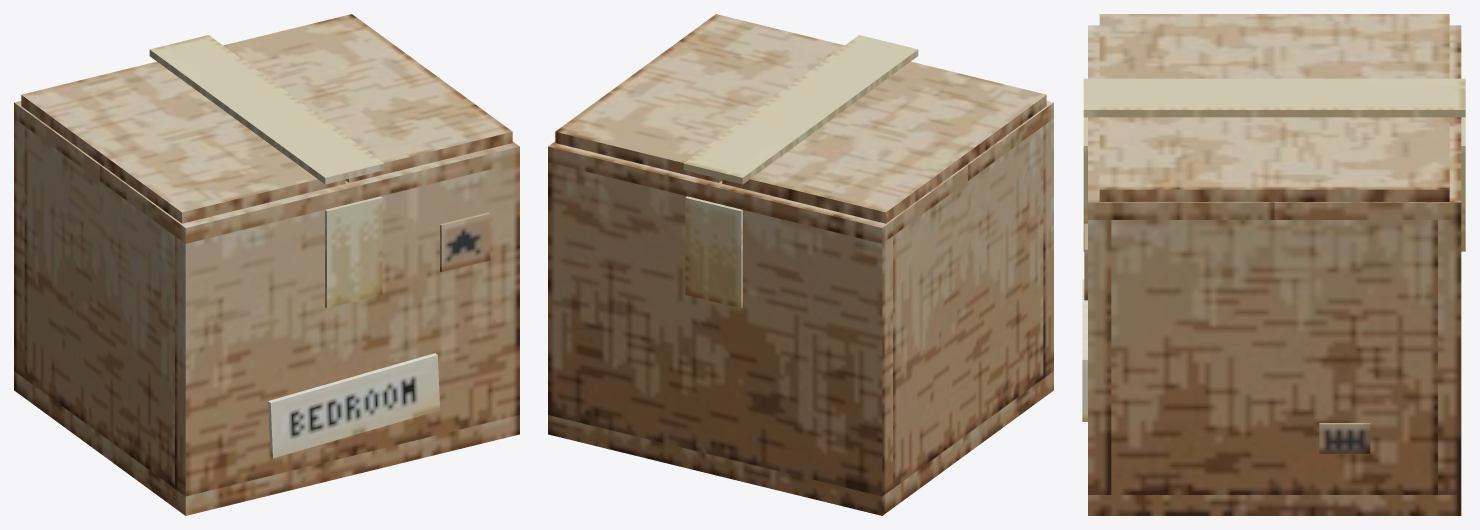
Rendered from box_f2_bedroom.glb.
The picture shows the model from 3 angles, left to right: view 1: azimuth 30°, elevation 25°; view 2: azimuth 150°, elevation 25°; view 3: azimuth 270°, elevation 25°; orthographic projection. The views are drawn at different scales.
Parts seen in each view (by area): view 1: solid (×6); view 2: solid (×6); view 3: solid (×6).
Part boxes in pixels (left/top/right/bottom): solid (×6): left=14, top=14, right=519, bottom=515; solid (×6): left=548, top=14, right=1053, bottom=515; solid (×6): left=1082, top=14, right=1465, bottom=515.
Size of the model in its own units: 18.16 by 15.74 by 16.44.
1 material, 1 textured.
